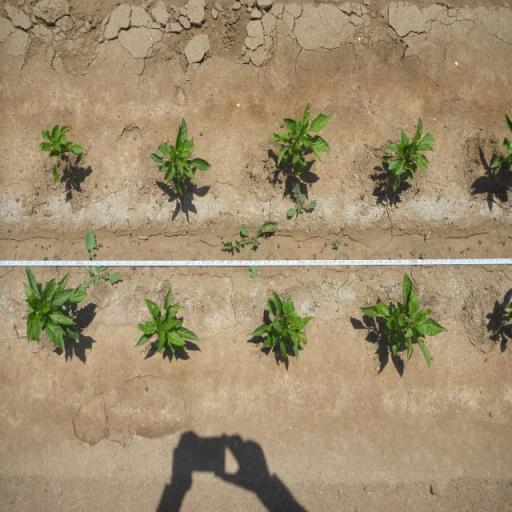plant: (360, 270, 450, 370), (149, 116, 212, 204), (23, 266, 82, 356), (247, 289, 315, 364), (132, 285, 202, 357), (270, 100, 335, 177), (377, 117, 435, 194), (36, 122, 87, 186), (489, 109, 512, 173)
weed: (221, 219, 278, 281), (76, 230, 124, 291), (285, 178, 319, 220), (332, 239, 341, 250), (96, 242, 103, 250), (421, 250, 426, 260), (360, 191, 366, 199), (409, 250, 416, 256), (262, 161, 268, 168), (249, 170, 253, 180), (423, 234, 429, 240), (39, 256, 48, 260), (129, 266, 138, 270), (126, 217, 130, 224), (324, 242, 328, 248), (34, 188, 38, 194), (170, 180, 174, 185), (94, 181, 97, 186), (246, 162, 248, 168), (278, 243, 280, 249), (310, 182, 312, 186), (104, 224, 106, 228), (254, 304, 255, 309)
